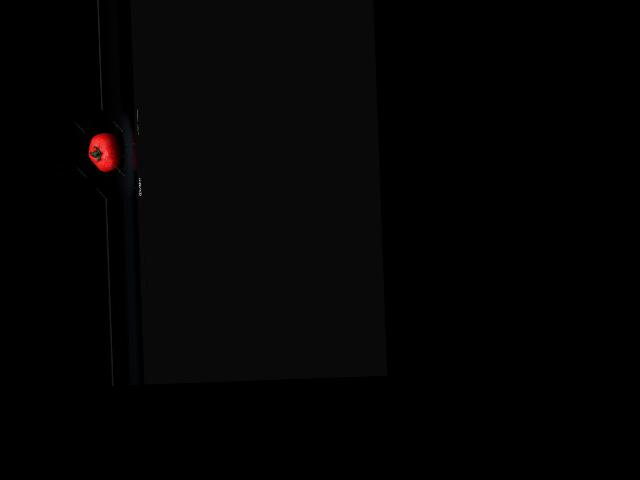tomato: (87, 131, 123, 172)
